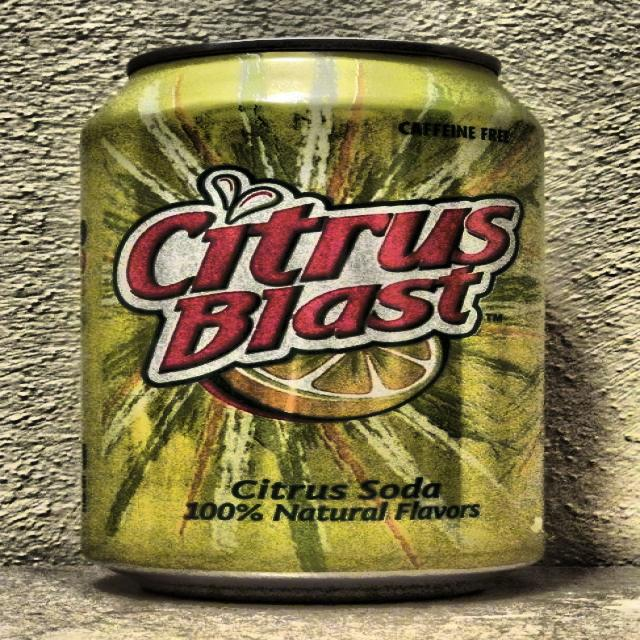Cans: (64, 33, 557, 606)
